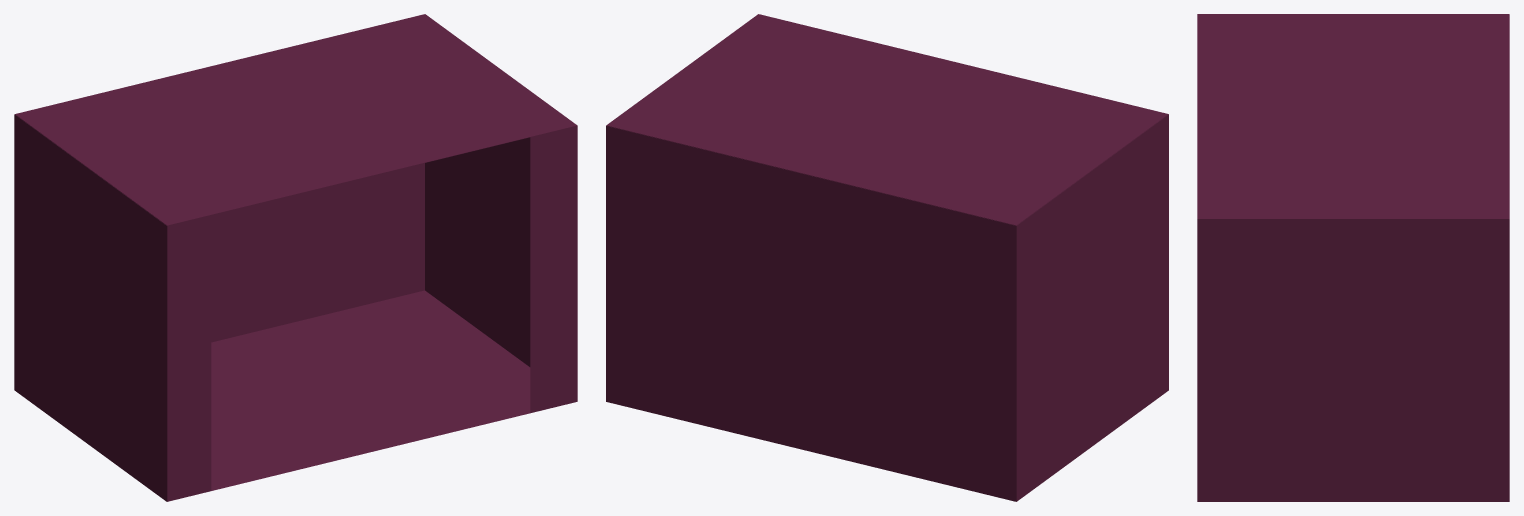
Rendered from Pareti.fbx.
3 views of the same model, side by side, from view 1: azimuth 30°, elevation 25°; view 2: azimuth 150°, elevation 25°; view 3: azimuth 270°, elevation 25° (orthographic). The views are drawn at different scales.
Visible parts, largest first — view 1: Pareti; view 2: Pareti; view 3: Pareti.
Boxes of the visible parts, <box> form: Pareti: <box>14,14,577,501</box>; Pareti: <box>606,14,1168,501</box>; Pareti: <box>1197,14,1509,501</box>.
Size of the model in its own units: 1401 by 901 by 901.
